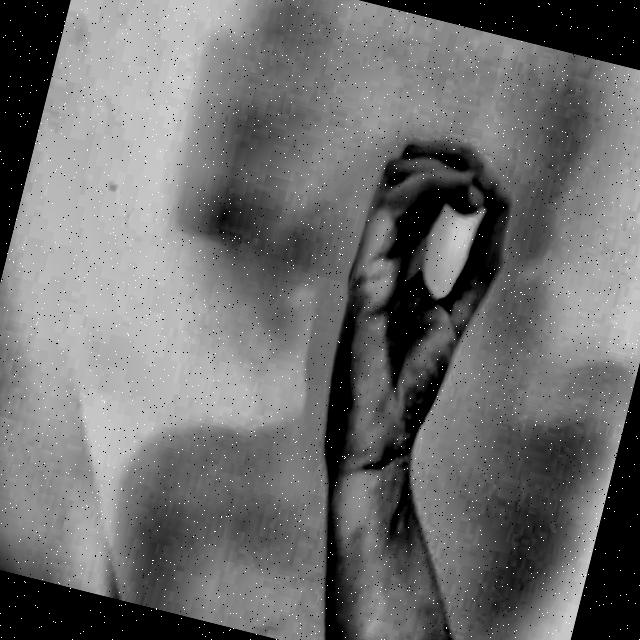O: (262, 90, 549, 529)
